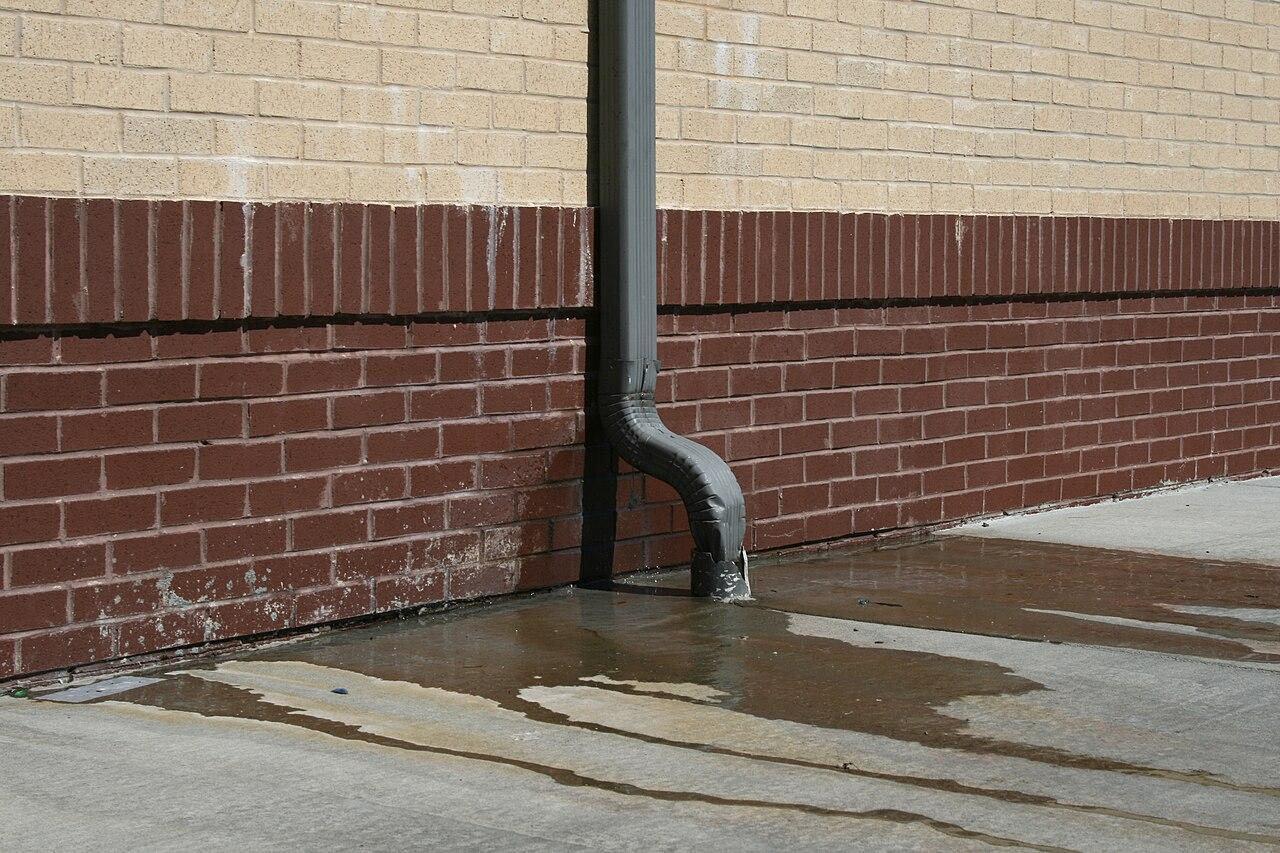water accumulation: (9, 527, 1280, 853)
